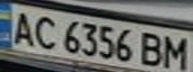3: (78, 20, 100, 57)
5: (97, 22, 118, 61)
6: (57, 17, 84, 55), (115, 26, 139, 64)
A: (6, 8, 39, 46)
B: (136, 29, 166, 68)
C: (30, 12, 60, 51)
M: (160, 33, 190, 71)
